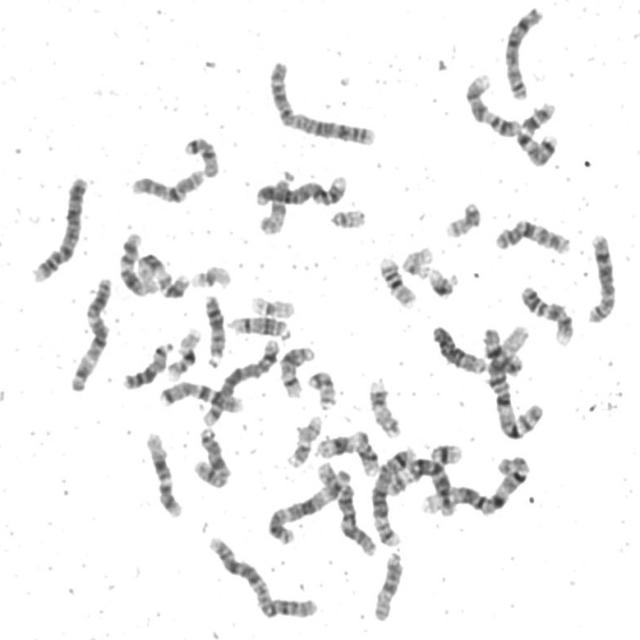A1: (482, 320, 548, 440), (420, 450, 533, 518)
A2: (266, 54, 380, 148), (206, 531, 322, 621)
A3: (264, 462, 353, 546), (66, 273, 116, 393)
B4: (29, 170, 90, 285), (253, 169, 351, 208)
B5: (199, 334, 282, 428), (368, 441, 418, 548)
C10: (491, 214, 575, 256), (127, 163, 209, 205)
C11: (314, 425, 383, 476), (135, 248, 192, 300)
C12: (142, 426, 186, 519), (116, 227, 160, 298)
C6: (391, 452, 458, 517), (429, 320, 490, 375)
C7: (513, 96, 561, 167), (156, 376, 247, 413)
C8: (501, 2, 546, 102), (584, 227, 620, 325)
C9: (462, 69, 524, 138), (516, 280, 578, 347)
D13: (118, 336, 175, 391), (200, 289, 228, 369)
D14: (278, 340, 318, 399), (226, 310, 294, 341)
D15: (370, 546, 406, 623), (256, 170, 296, 235)
E16: (375, 250, 419, 308), (163, 322, 204, 382)
E17: (284, 410, 326, 469), (366, 374, 404, 439)
E18: (480, 323, 526, 378), (180, 132, 222, 179)
F19: (248, 289, 298, 320), (189, 259, 235, 290)
F20: (442, 196, 485, 240), (305, 365, 339, 411)
G21: (425, 263, 460, 300), (426, 437, 467, 465)
G22: (400, 247, 434, 281), (327, 203, 369, 230)
X: (334, 476, 380, 558), (190, 422, 234, 490)
